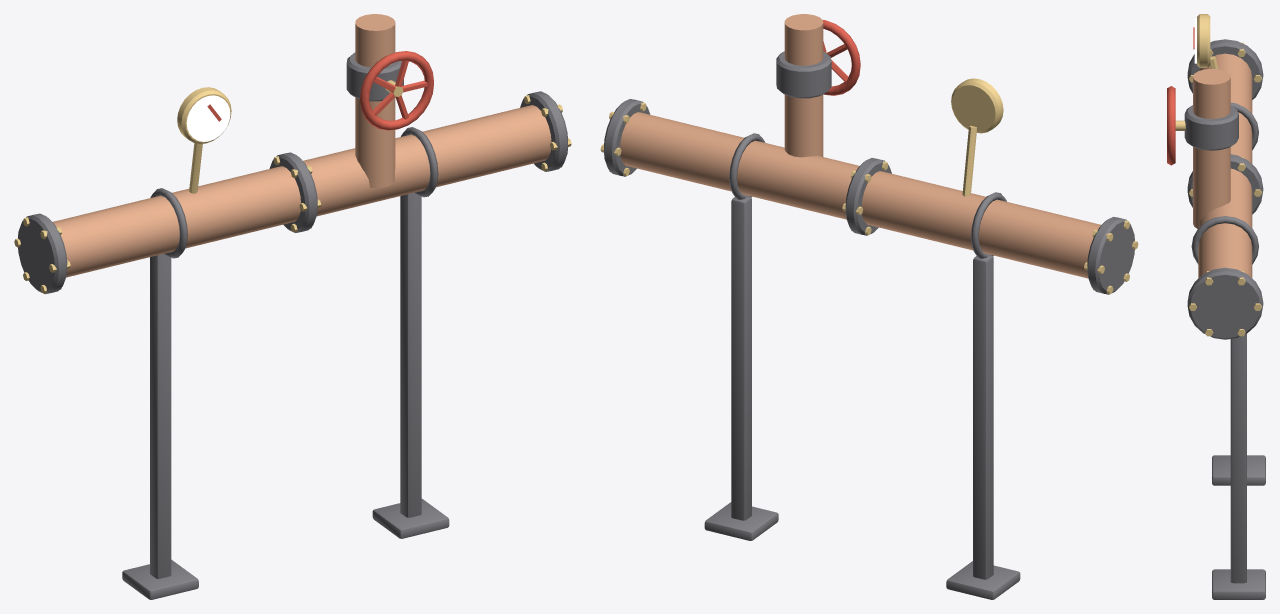
File: bg_pipe.glb
3 renders of one model, left to right at view 1: azimuth 30°, elevation 25°; view 2: azimuth 150°, elevation 25°; view 3: azimuth 270°, elevation 25°, orthographic. The views are drawn at different scales.
Visible parts, largest first — view 1: bg_pipe; view 2: bg_pipe; view 3: bg_pipe.
Boxes of the visible parts, x1,y1,x2,y2 form: bg_pipe: [14, 14, 571, 599]; bg_pipe: [600, 14, 1138, 599]; bg_pipe: [1167, 14, 1265, 599].
Size of the model in its own units: 2.07 by 2 by 0.3656.
